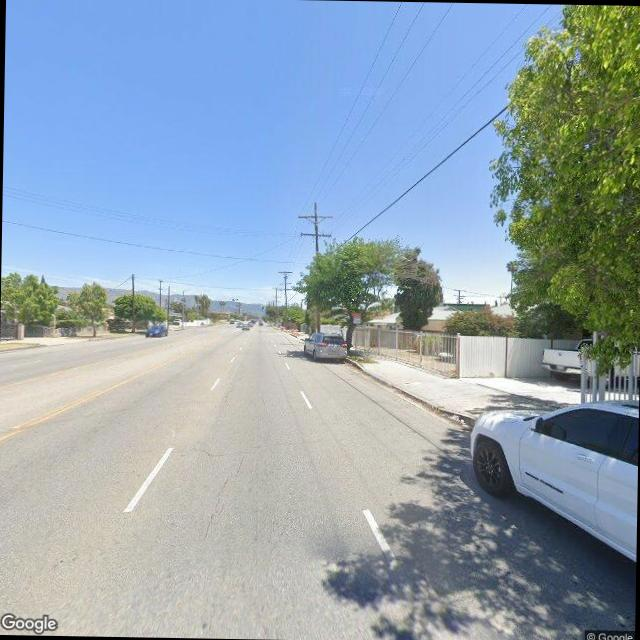pothole: (197, 453, 243, 546)
